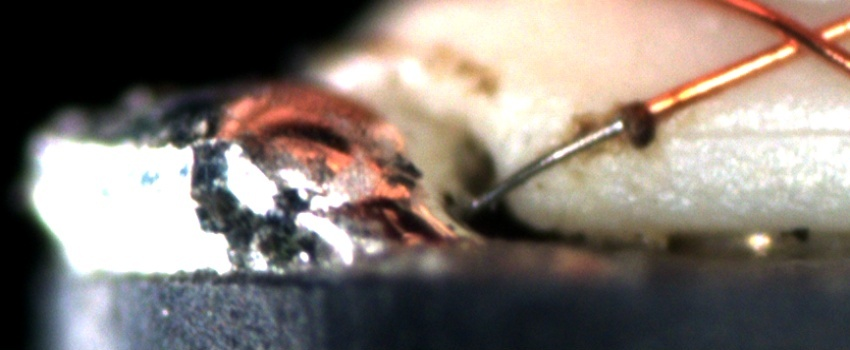CL: (758, 6, 844, 67)
DL: (669, 102, 850, 166)
TS: (465, 116, 628, 215)
TTCW: (467, 83, 696, 212)
